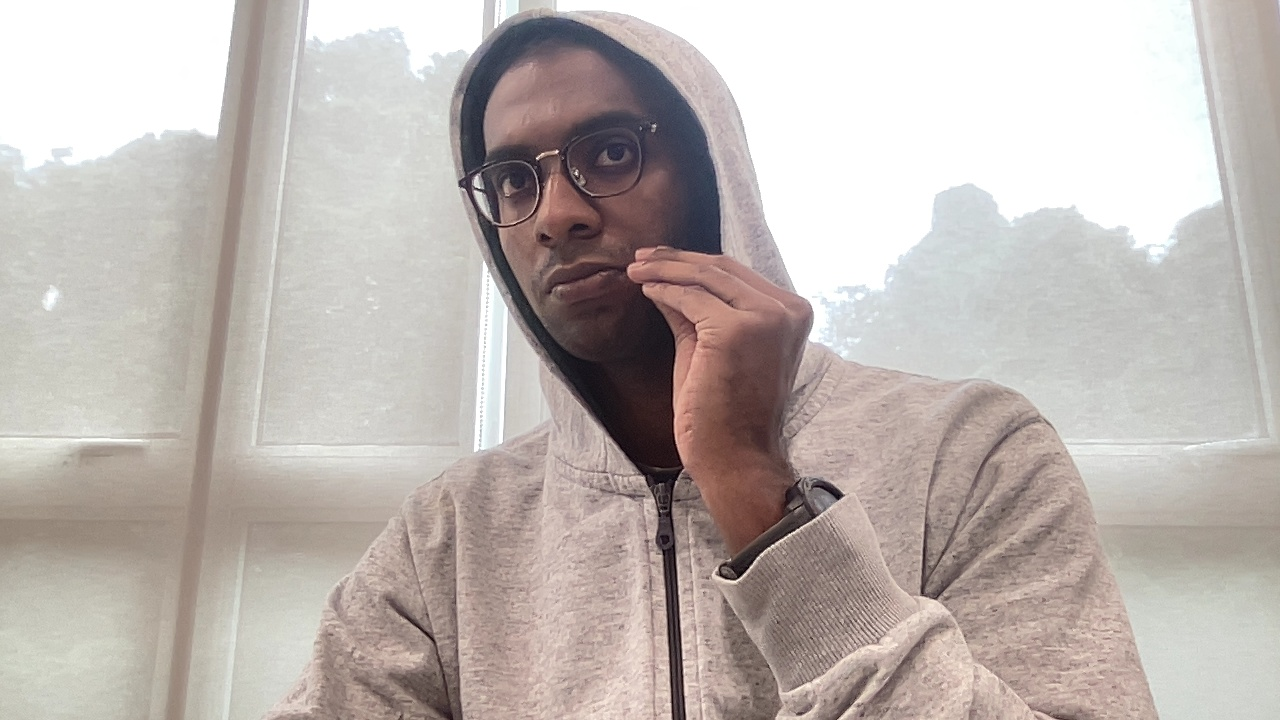eat: (619, 242, 826, 462)
